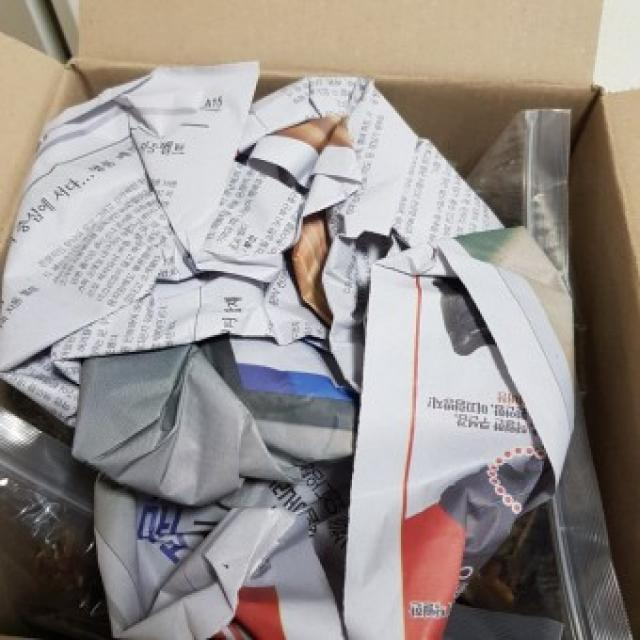reuseable_paper: (0, 54, 572, 640)
